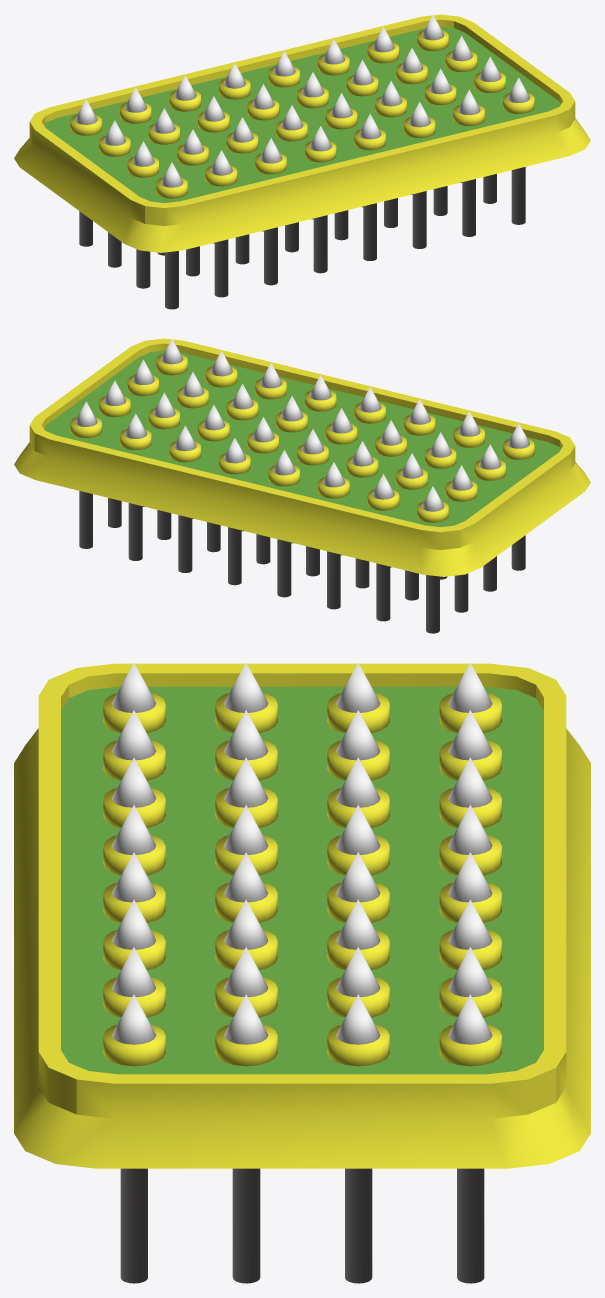
Rendered from Obstacle 7 V2.fbx.
3 renders of one model, top to bottom at view 1: azimuth 30°, elevation 25°; view 2: azimuth 150°, elevation 25°; view 3: azimuth 270°, elevation 25°, orthographic. The views are drawn at different scales.
Parts seen in each view (by area): view 1: O7 Part 1, O7 Part 2; view 2: O7 Part 1, O7 Part 2; view 3: O7 Part 1, O7 Part 2.
Boxes of the visible parts, x1,y1,x2,y2 form: O7 Part 1: (14, 14, 590, 252); O7 Part 2: (70, 15, 534, 309); O7 Part 1: (14, 338, 590, 576); O7 Part 2: (70, 339, 534, 633); O7 Part 1: (14, 663, 590, 1168); O7 Part 2: (103, 662, 501, 1283).
Bounding box in the file's own units: 249 × 74.77 × 138.
Materials: 1 (1 with a texture image).
